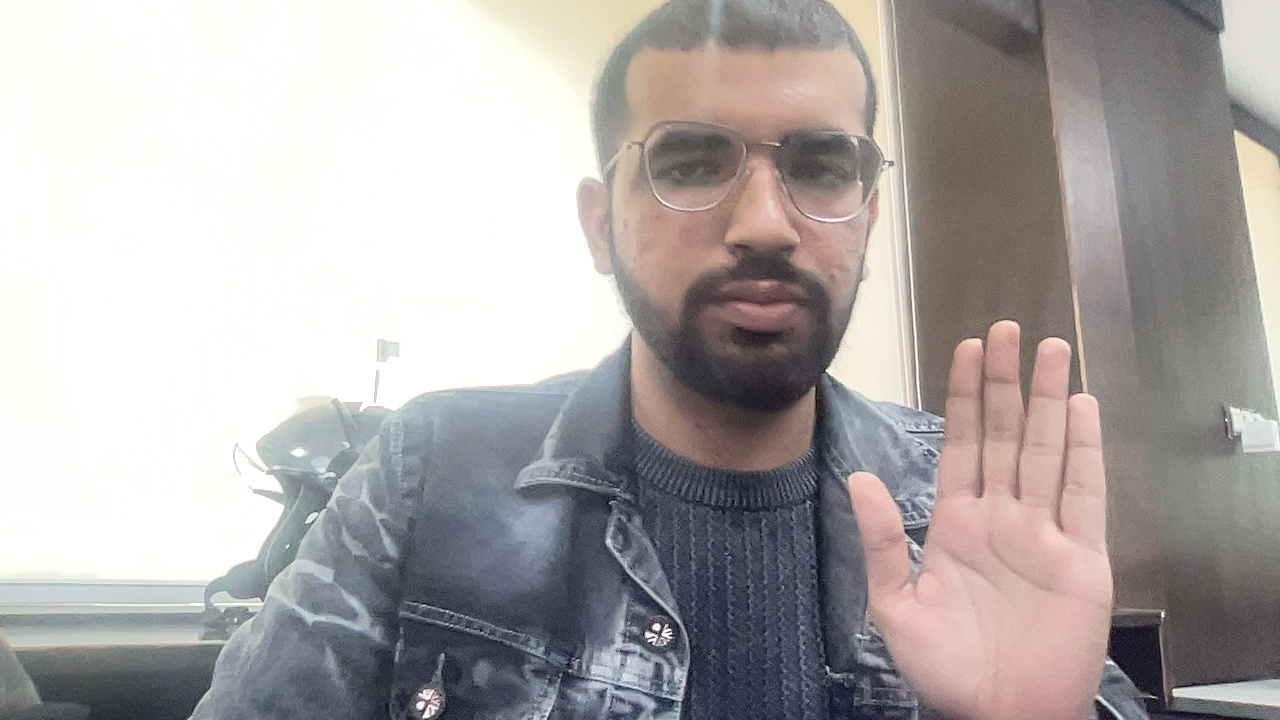Hello: (819, 306, 1141, 719)
